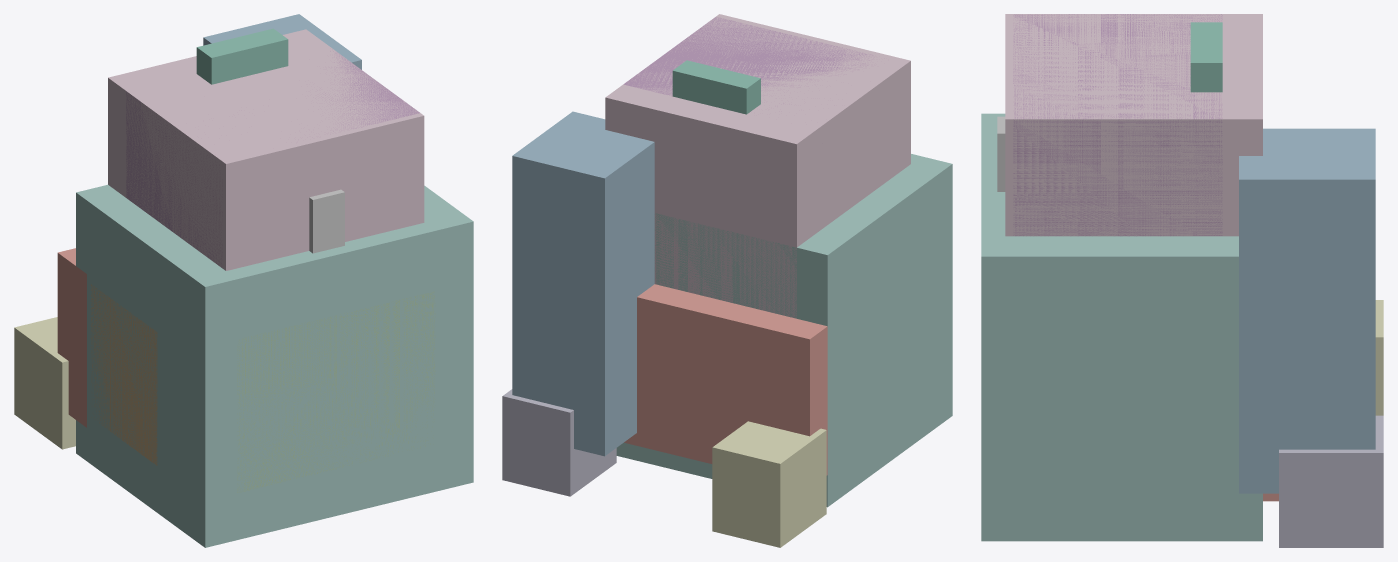
Rendered from backpack_bbox.glb.
3 renders of one model, left to right at view 1: azimuth 30°, elevation 25°; view 2: azimuth 150°, elevation 25°; view 3: azimuth 270°, elevation 25°, orthographic. The views are drawn at different scales.
Visible parts, largest first — view 1: world; view 2: world; view 3: world.
Part boxes in pixels (left/top/right/bottom): world: left=14, top=14, right=473, bottom=547; world: left=502, top=14, right=952, bottom=547; world: left=981, top=14, right=1383, bottom=547.
Bounding box in the file's own units: 0.7143 × 0.9365 × 0.7937.
